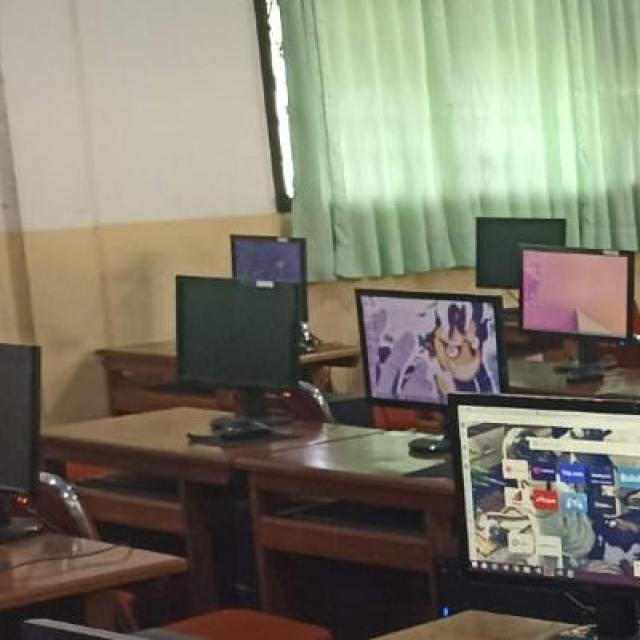offscreen: (177, 278, 297, 386), (476, 218, 565, 288), (231, 237, 306, 284)
onscreen: (452, 397, 638, 576), (357, 290, 506, 406)
